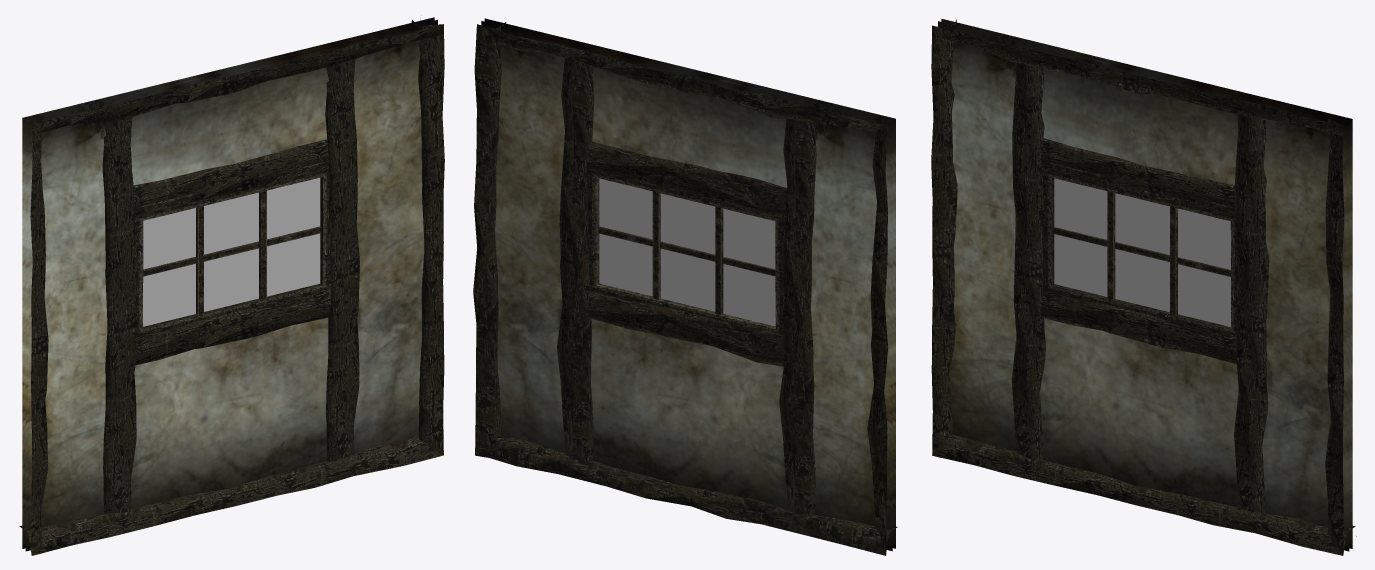
The model's file is default_extension_window01_yellow.DAE.
The picture shows the model from 3 angles, left to right: view 1: azimuth 30°, elevation 25°; view 2: azimuth 150°, elevation 25°; view 3: azimuth 330°, elevation 25°; orthographic projection.
Parts seen in each view (by area): view 1: Object009, polySurface034, Plane021, Object010; view 2: Object009, polySurface034, Plane021, Object010; view 3: Object009, polySurface034, Plane021, Object010.
Part boxes in pixels (x1=…): Object009: x1=22, y1=17, x2=437, y2=551; polySurface034: x1=19, y1=20, x2=444, y2=555; Plane021: x1=143, y1=177, x2=320, y2=326; Object010: x1=133, y1=161, x2=332, y2=342; Object009: x1=481, y1=18, x2=895, y2=551; polySurface034: x1=473, y1=22, x2=897, y2=555; Plane021: x1=599, y1=178, x2=775, y2=326; Object010: x1=587, y1=170, x2=784, y2=334; Object009: x1=938, y1=18, x2=1352, y2=551; polySurface034: x1=931, y1=19, x2=1356, y2=555; Plane021: x1=1054, y1=178, x2=1230, y2=326; Object010: x1=1042, y1=162, x2=1241, y2=339.
Bounding box in the file's own units: 4 × 4 × 0.328.
